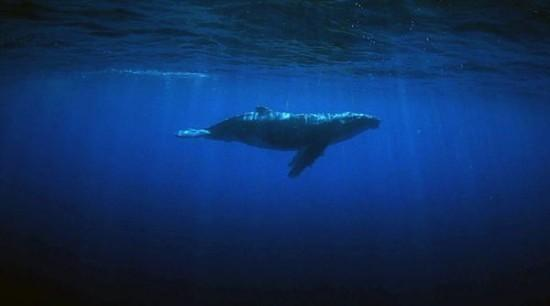fish: (168, 102, 384, 179)
